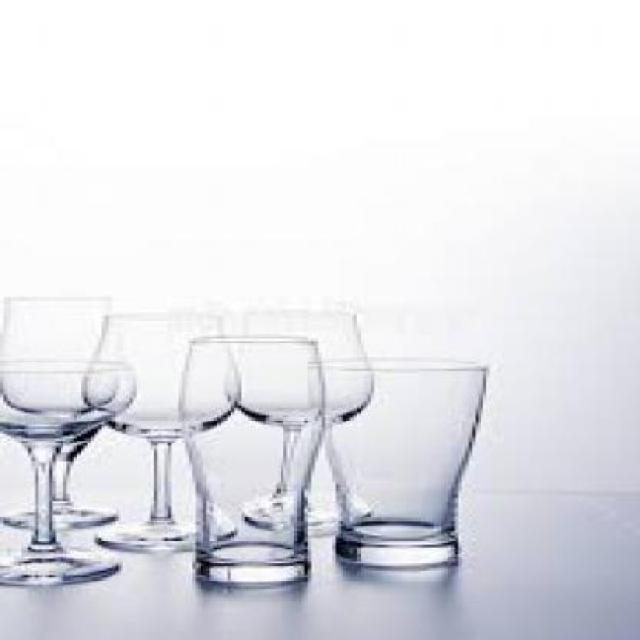kaca: (81, 310, 236, 548), (311, 357, 486, 563), (178, 336, 322, 584), (225, 311, 368, 535), (0, 360, 126, 582), (0, 295, 115, 526)
